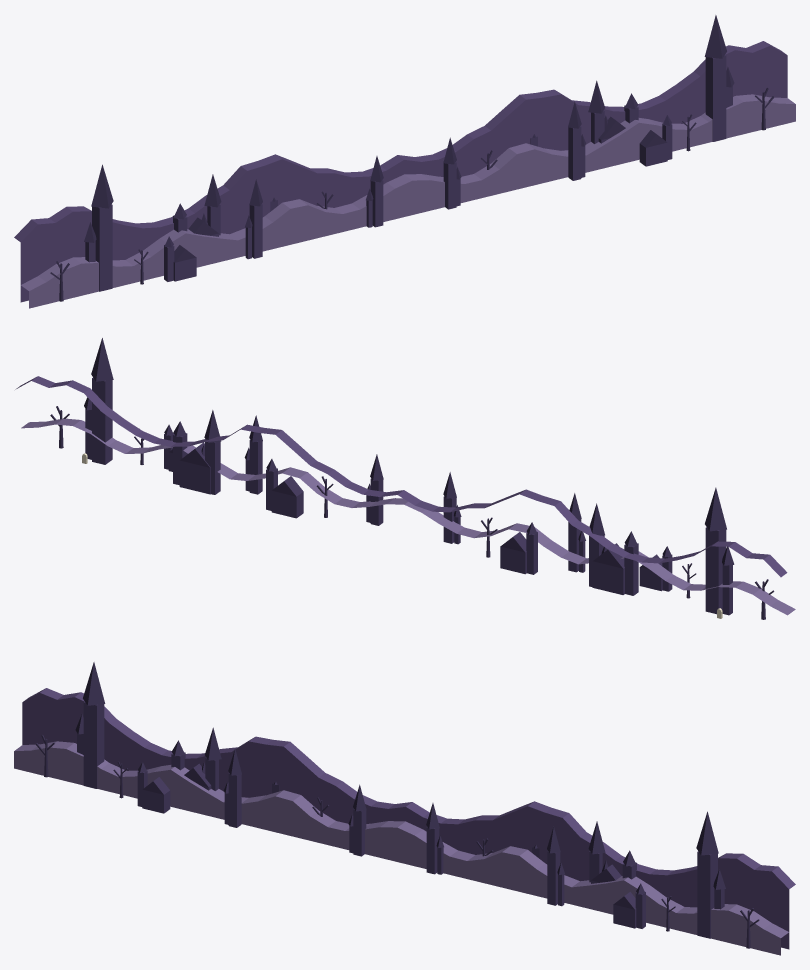
File: backdrop_graveyard.glb
3 views of the same model, one above another, from view 1: azimuth 30°, elevation 25°; view 2: azimuth 150°, elevation 25°; view 3: azimuth 330°, elevation 25° (orthographic).
Visible parts, largest first — view 1: backdrop_graveyard; view 2: backdrop_graveyard; view 3: backdrop_graveyard.
Part boxes in pixels (x1=…): backdrop_graveyard: x1=14, y1=15, x2=795, y2=308; backdrop_graveyard: x1=15, y1=338, x2=795, y2=619; backdrop_graveyard: x1=14, y1=662, x2=795, y2=955.
Bounding box in the file's own units: 260 × 40 × 14.
1 material, 1 textured.
